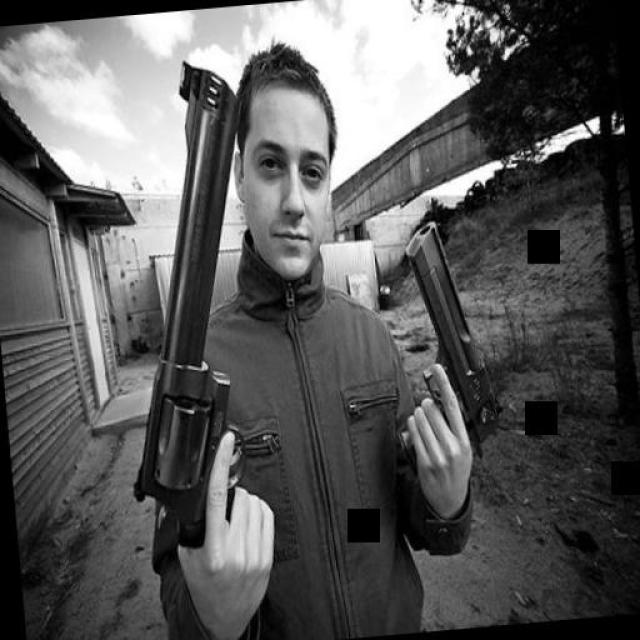gun: (96, 51, 282, 554), (378, 211, 502, 481)
